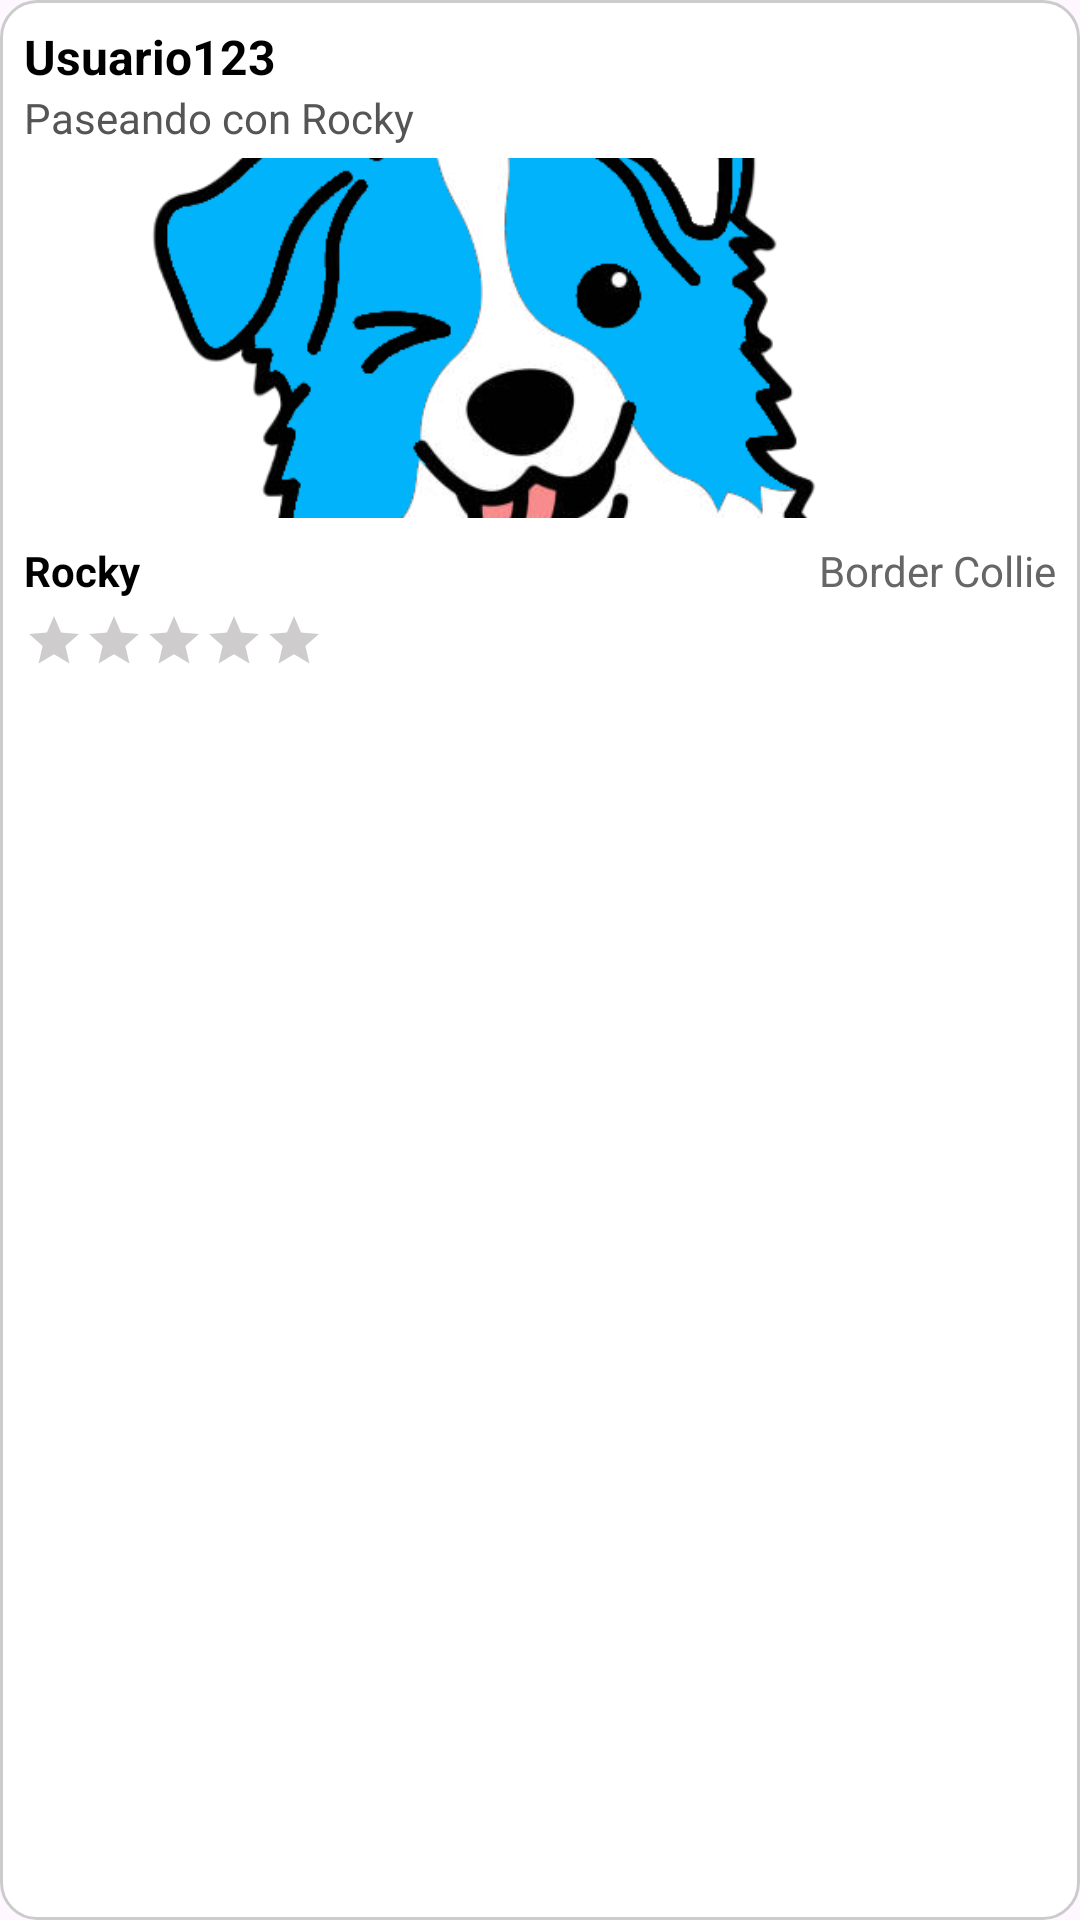

Point at icon controls on the screen. Image size 1080px x 1920px, points as (x=x, y=y).
star empty: (x=54, y=640), (x=114, y=640), (x=174, y=640), (x=234, y=640), (x=294, y=640)
